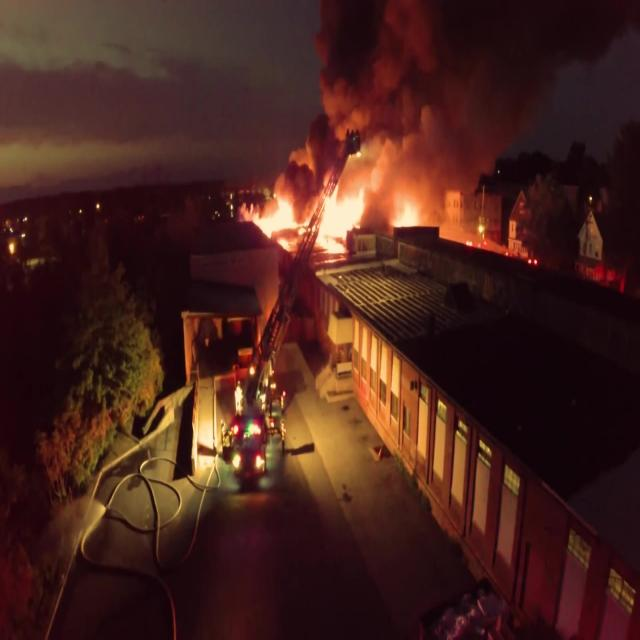Fire: (262, 186, 426, 243)
Smoke: (289, 0, 500, 179)
